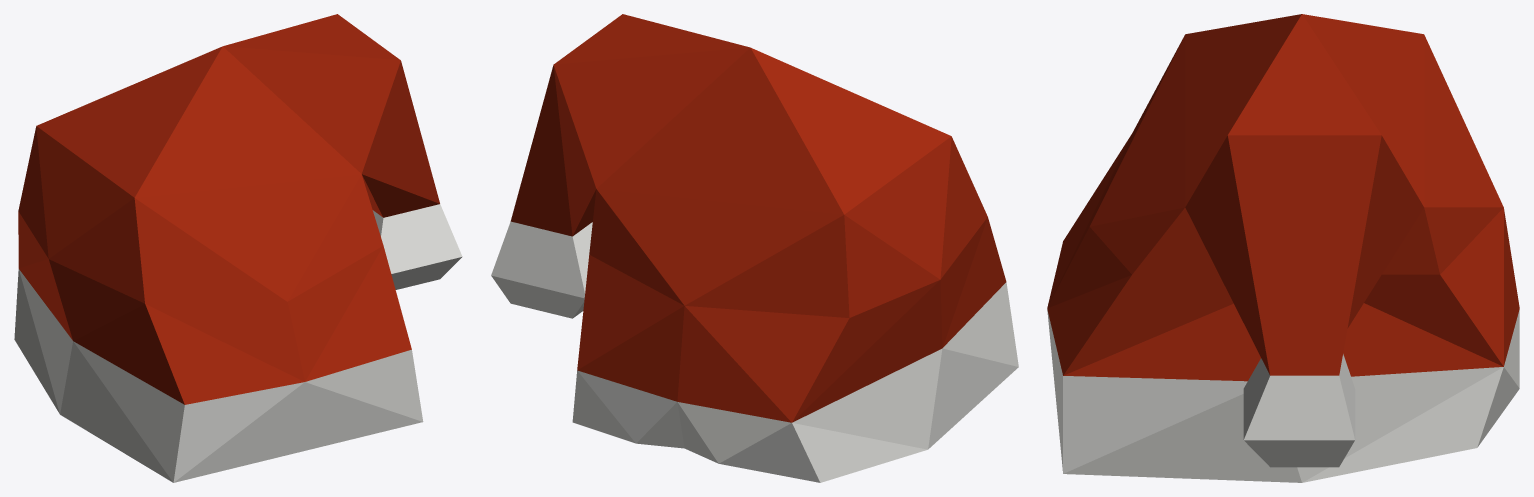
File: itm_model_headA_santa_hat.obj
3 views of the same model, side by side, from view 1: azimuth 30°, elevation 25°; view 2: azimuth 150°, elevation 25°; view 3: azimuth 270°, elevation 25° (orthographic). The views are drawn at different scales.
Size of the model in its own units: 0.8047 by 0.6484 by 0.6953.
